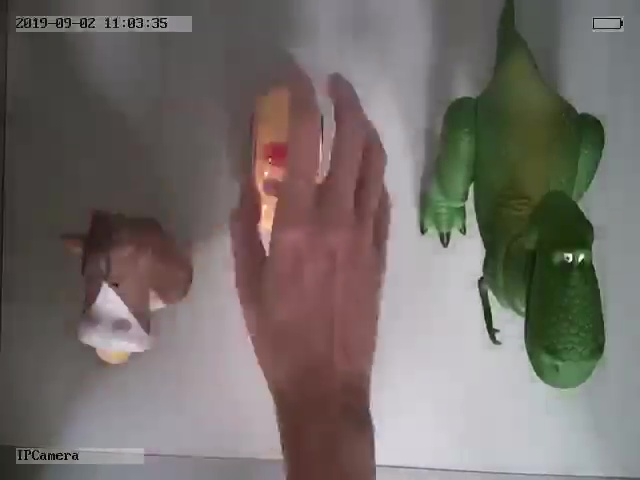horse: (58, 210, 192, 365)
rex: (418, 8, 606, 390)
